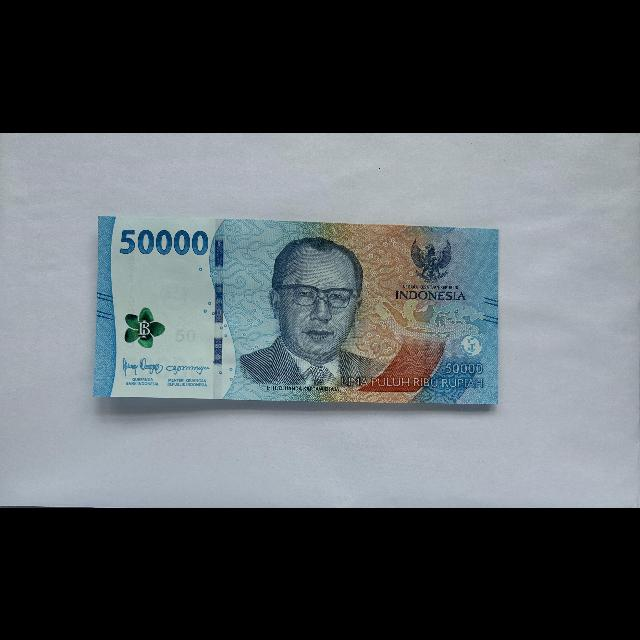Asli-50k: (90, 213, 506, 411)
Tinta-Asli-50k: (124, 306, 166, 349)
